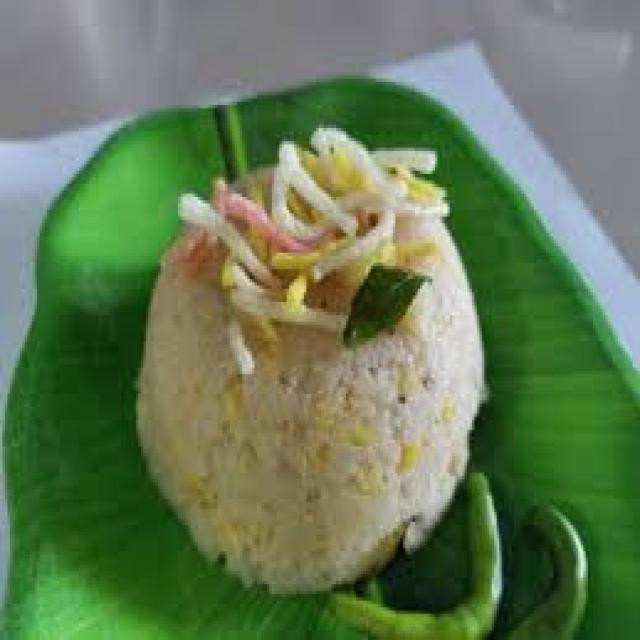UPMA: (128, 128, 482, 587)
